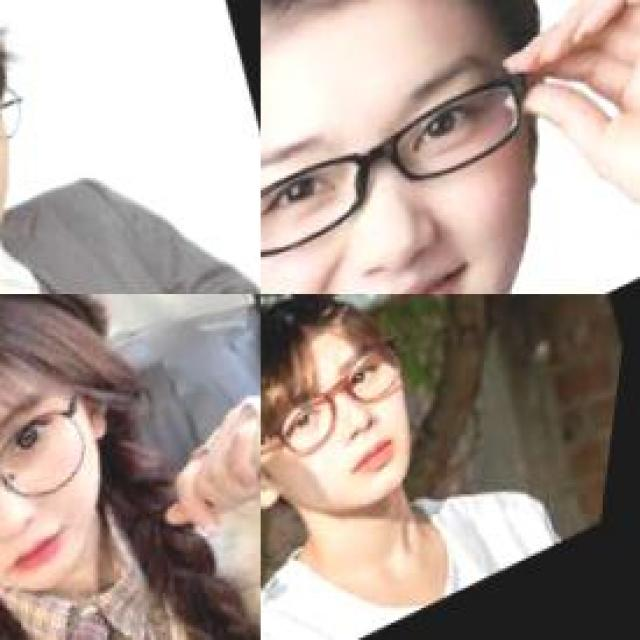Glasses: (260, 57, 572, 291), (0, 378, 137, 617), (261, 328, 428, 492), (0, 76, 40, 192)
